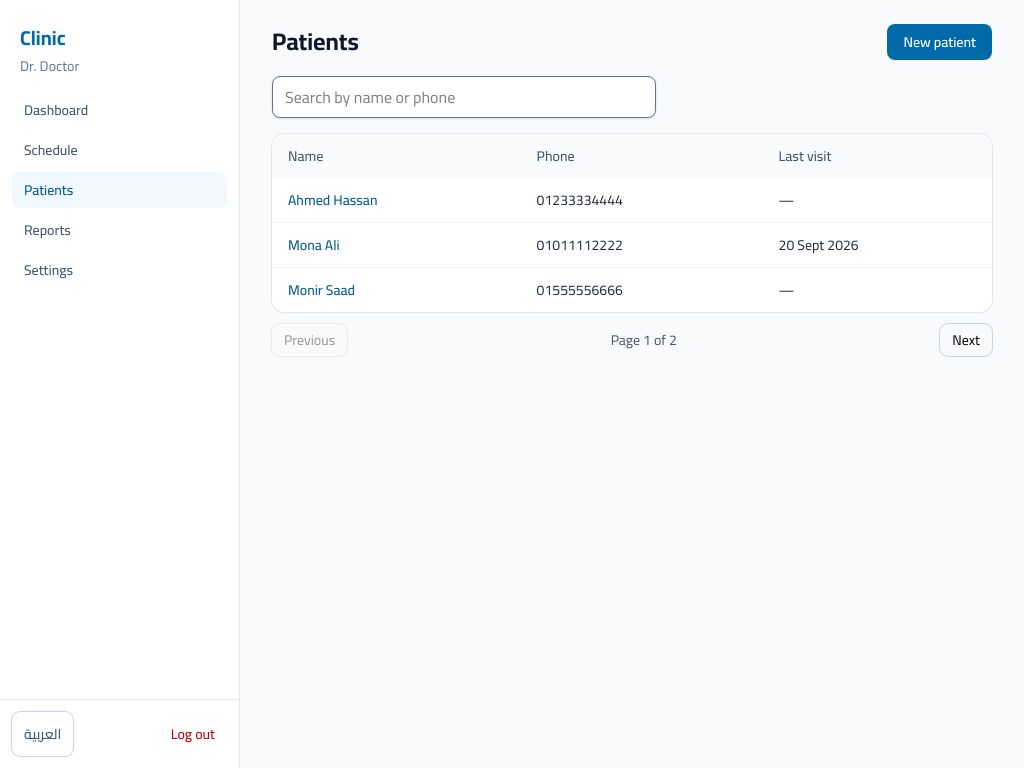
PatientsList › searches after typing stops and keeps the search in the URL
expect the table is shown: met, box [272,134,992,312]
Type "mon" into the search field named "Search patients" at (464, 97), box [272,76,656,118]
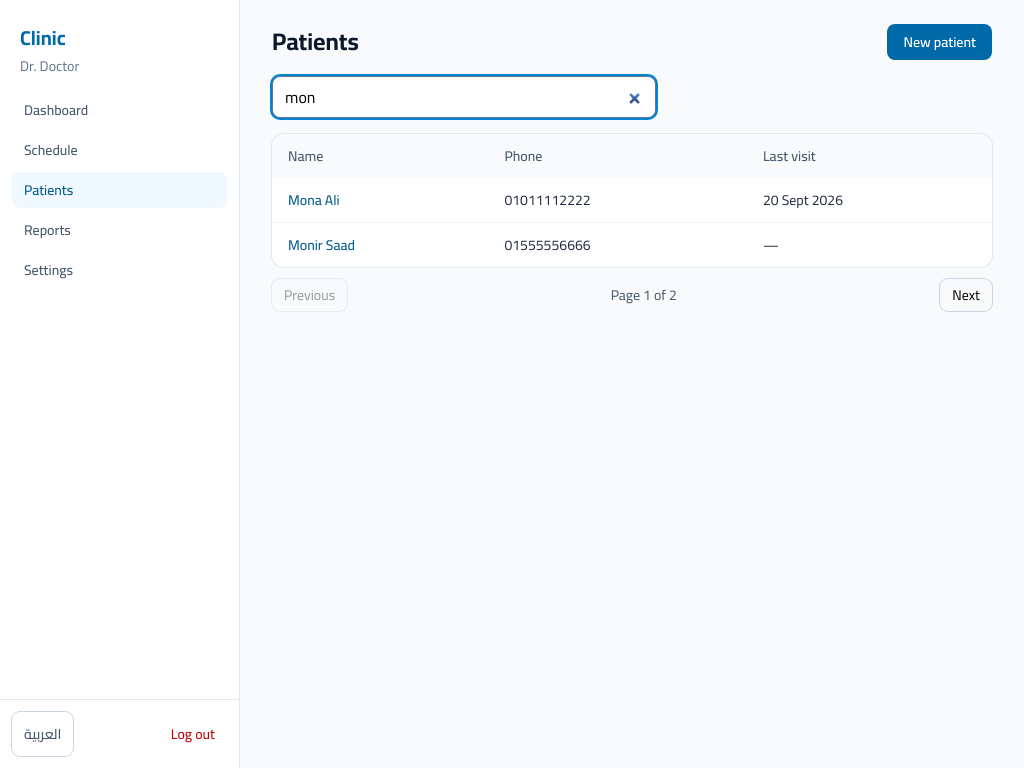
expect the link "Mona Ali" is shown: met, box [288,187,340,213]
expect the link "Ahmed Hassan" is gone: met
